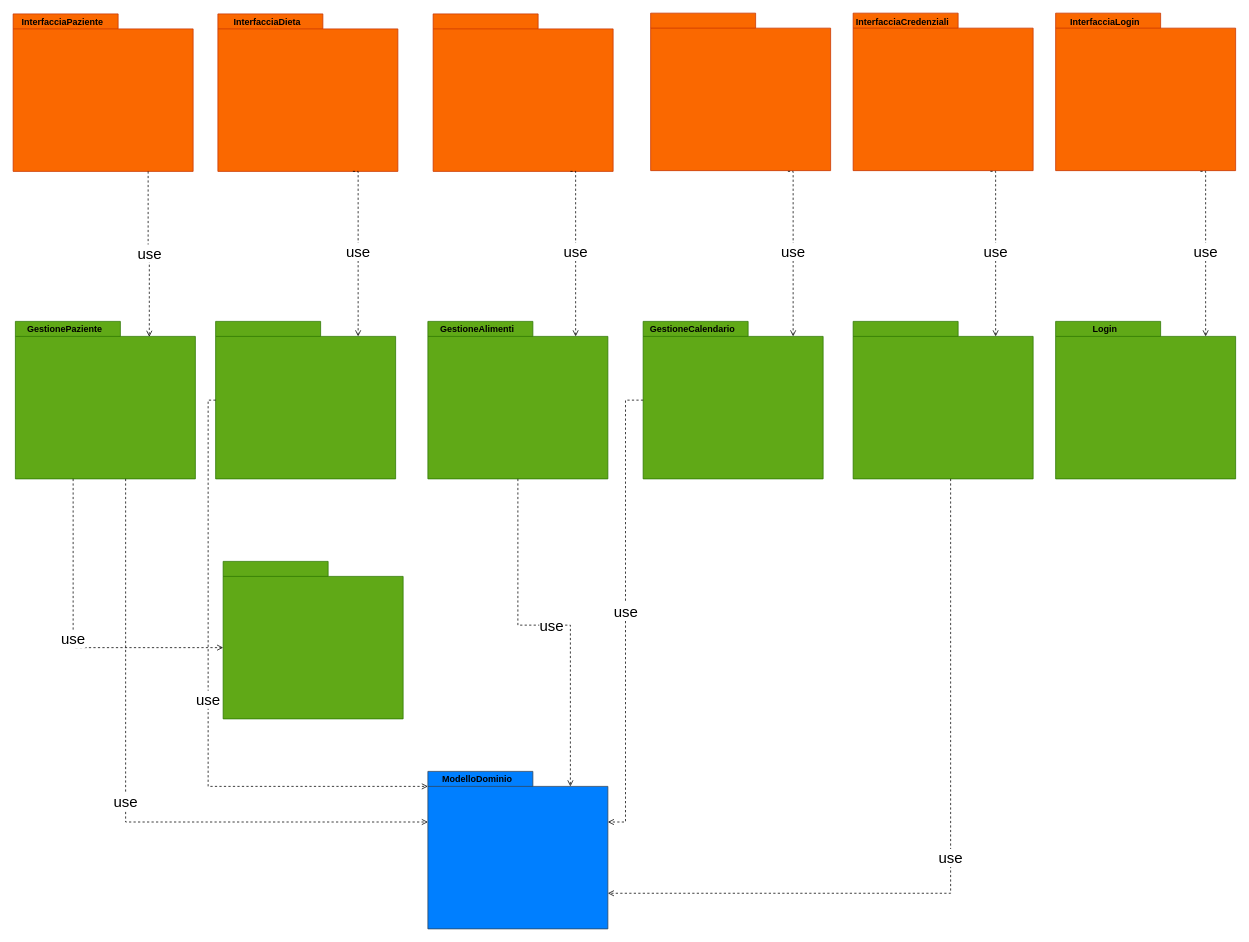
The diagram is 1249 pixels wide and 942 high, and some of its shapes have lost their labels. Here are the shapes that lost their labels. From the top down, the box of each, then its label:
(432, 13, 613, 171): InterfacciaAlimento
(650, 12, 831, 171): InterfacciaCalendario
(215, 321, 396, 479): GestioneDieta
(852, 321, 1033, 479): GestioneCredenziali
(222, 561, 403, 719): Log
